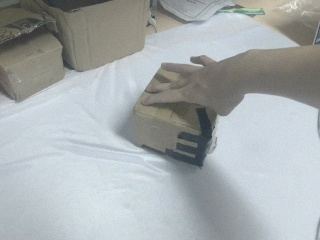box: (131, 63, 218, 168), (21, 1, 151, 71), (1, 29, 65, 103)
